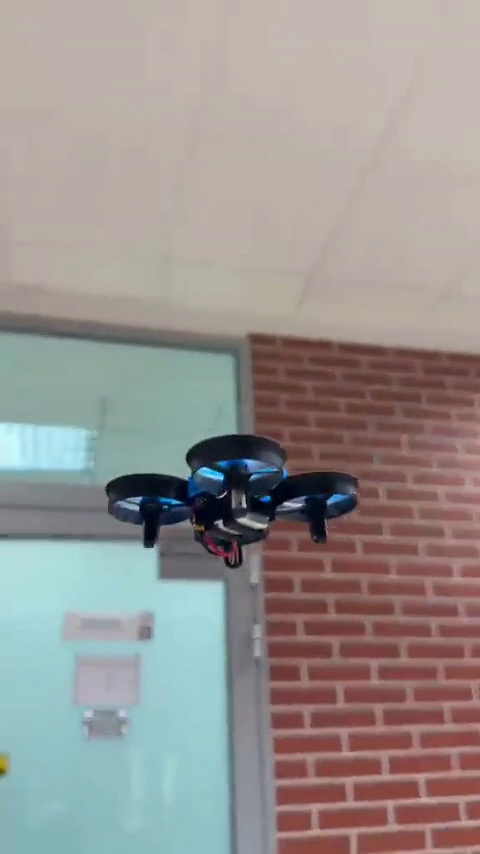drone: (108, 437, 361, 566)
